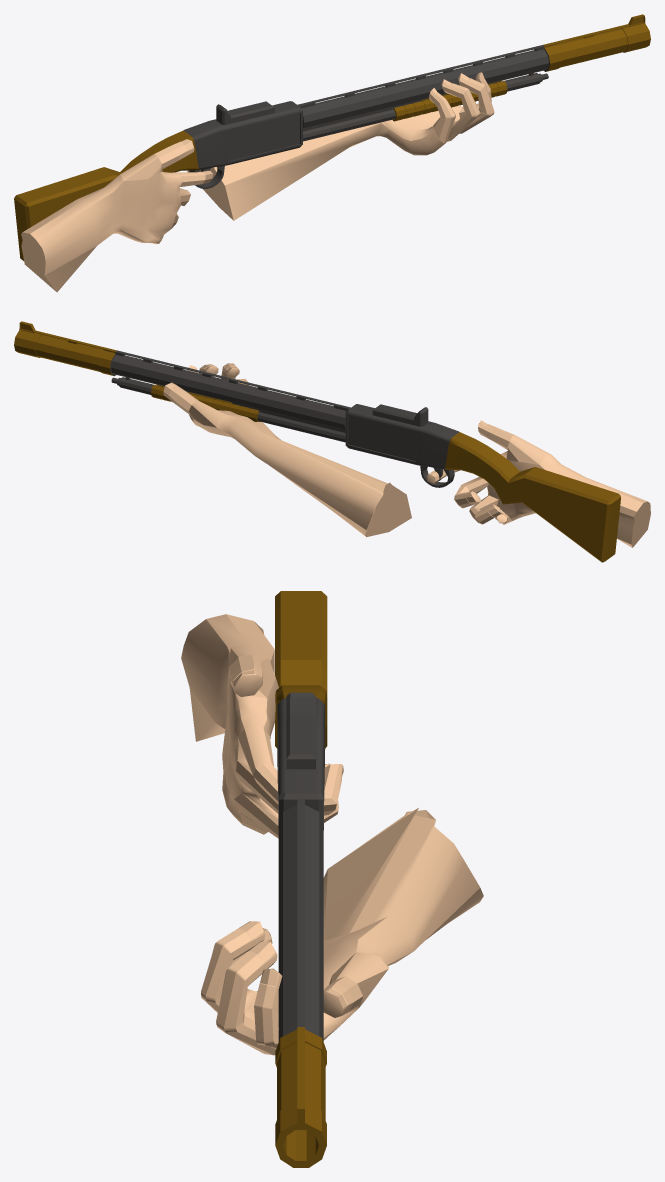
Rendered from weapon_B.fbx.
3 views of the same model, one above another, from view 1: azimuth 30°, elevation 25°; view 2: azimuth 150°, elevation 25°; view 3: azimuth 270°, elevation 25° (orthographic). The views are drawn at different scales.
Visible parts, largest first — view 1: pCylinder18, pCylinder3, Finger:pCylinder18, pCylinder6, pCylinder4; view 2: pCylinder6, pCylinder3, Finger:pCylinder18, pCylinder18, pCylinder4; view 3: Finger:pCylinder18, pCylinder3, pCylinder18, pCylinder6.
Part boxes in pixels (left/top/right/bottom): pCylinder18: left=21, top=139, right=212, bottom=292; pCylinder3: left=297, top=14, right=650, bottom=141; Finger:pCylinder18: left=187, top=72, right=494, bottom=220; pCylinder6: left=14, top=101, right=302, bottom=260; pCylinder4: left=392, top=80, right=507, bottom=121; pCylinder6: left=345, top=404, right=620, bottom=562; pCylinder3: left=14, top=321, right=350, bottom=442; Finger:pCylinder18: left=163, top=363, right=411, bottom=537; pCylinder18: left=427, top=420, right=650, bottom=547; pCylinder4: left=151, top=384, right=260, bottom=421; Finger:pCylinder18: left=201, top=808, right=483, bottom=1055; pCylinder3: left=275, top=798, right=326, bottom=1167; pCylinder18: left=181, top=614, right=343, bottom=838; pCylinder6: left=275, top=591, right=327, bottom=829.
Bounding box in the file's own units: 5.18 × 0.9304 × 1.12.
